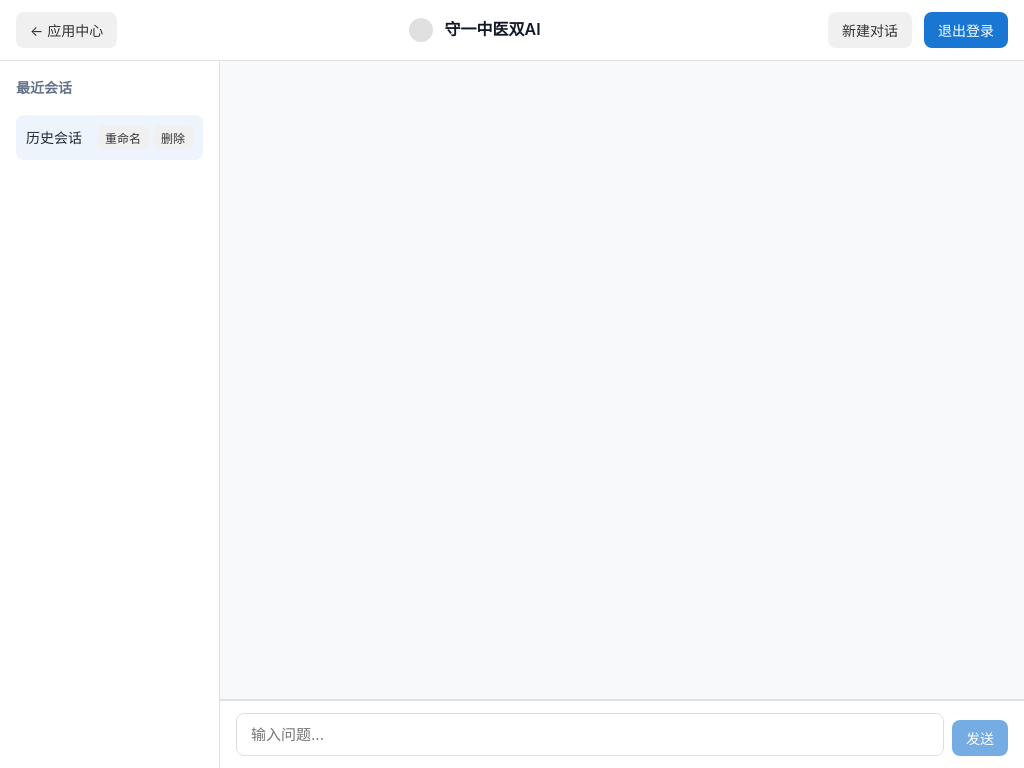
ChatPage latest conversation inputs restore › sends chat request with restored inputs from the latest conversation
Expected: the text "历史会话" is shown, [26,127,89,149]
In the text box with placeholder "输入问题...": (590,734) [236,713,944,756], type "继续问诊"
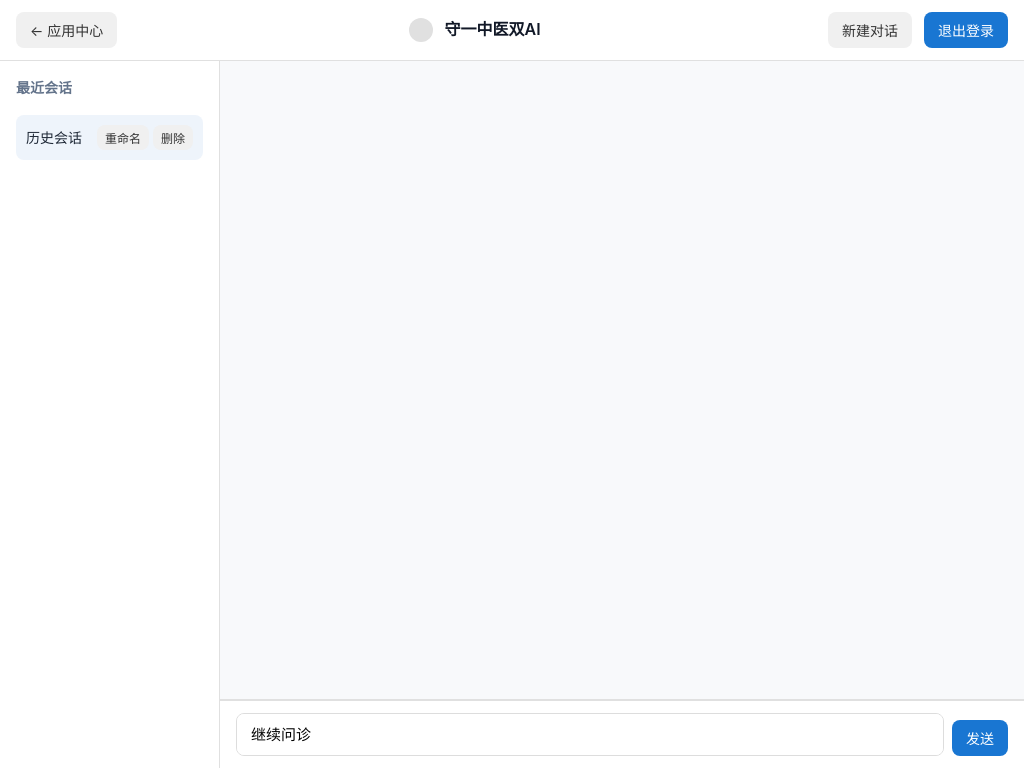
Click the button "发送": (980,738) [952,720,1008,756]
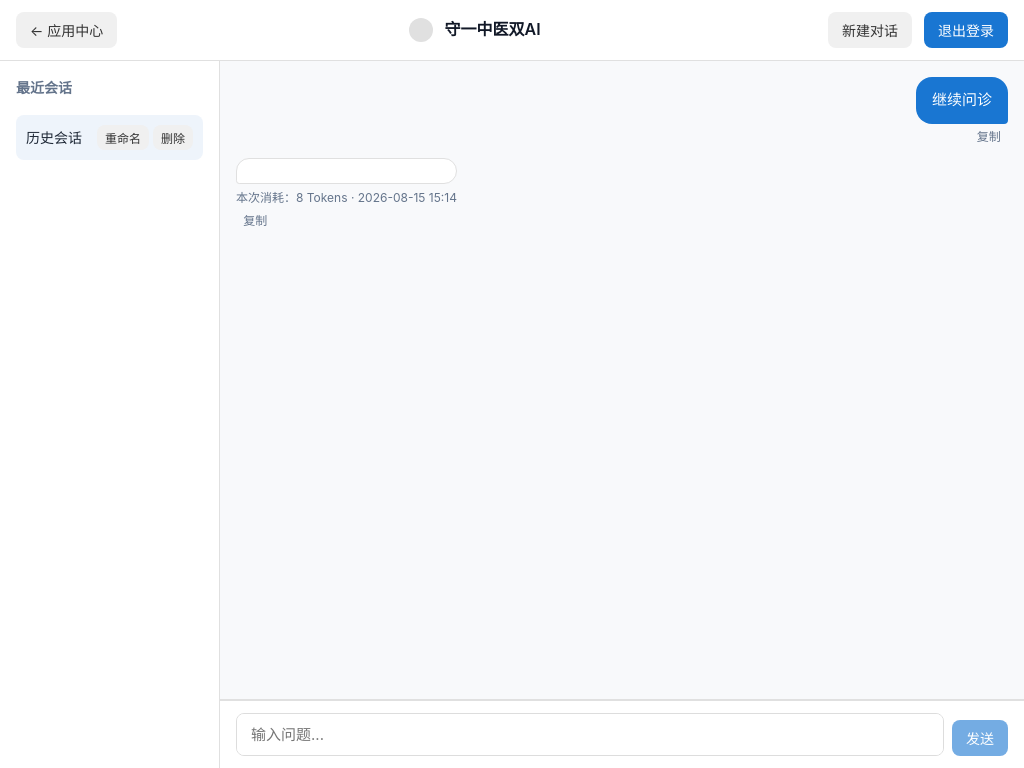
Result: the text "继续问诊" is shown at [916,77,1008,124]
Result: the text "本次消耗：8 Tokens · 2026-08-15 15:14" is shown at [236,188,457,208]
